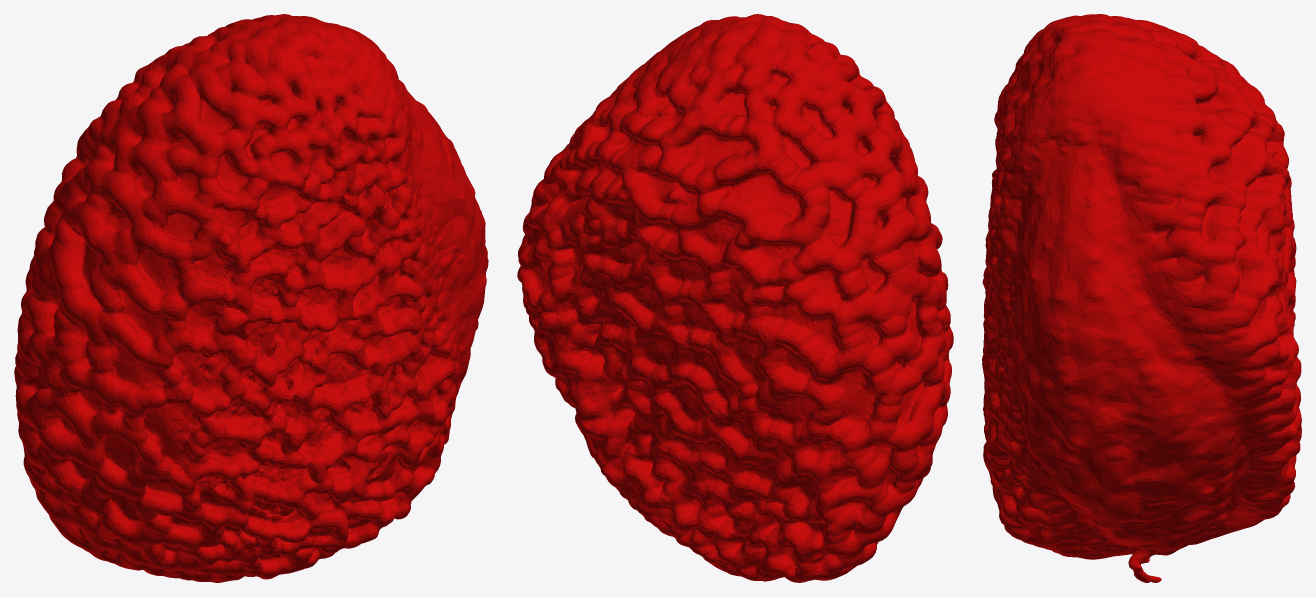
The model's file is 3DPX-017782-0.glb.
The picture shows the model from 3 angles, left to right: view 1: azimuth 30°, elevation 25°; view 2: azimuth 150°, elevation 25°; view 3: azimuth 270°, elevation 25°; orthographic projection. The views are drawn at different scales.
Bounding box in the file's own units: 59.79 × 75.79 × 40.77.
